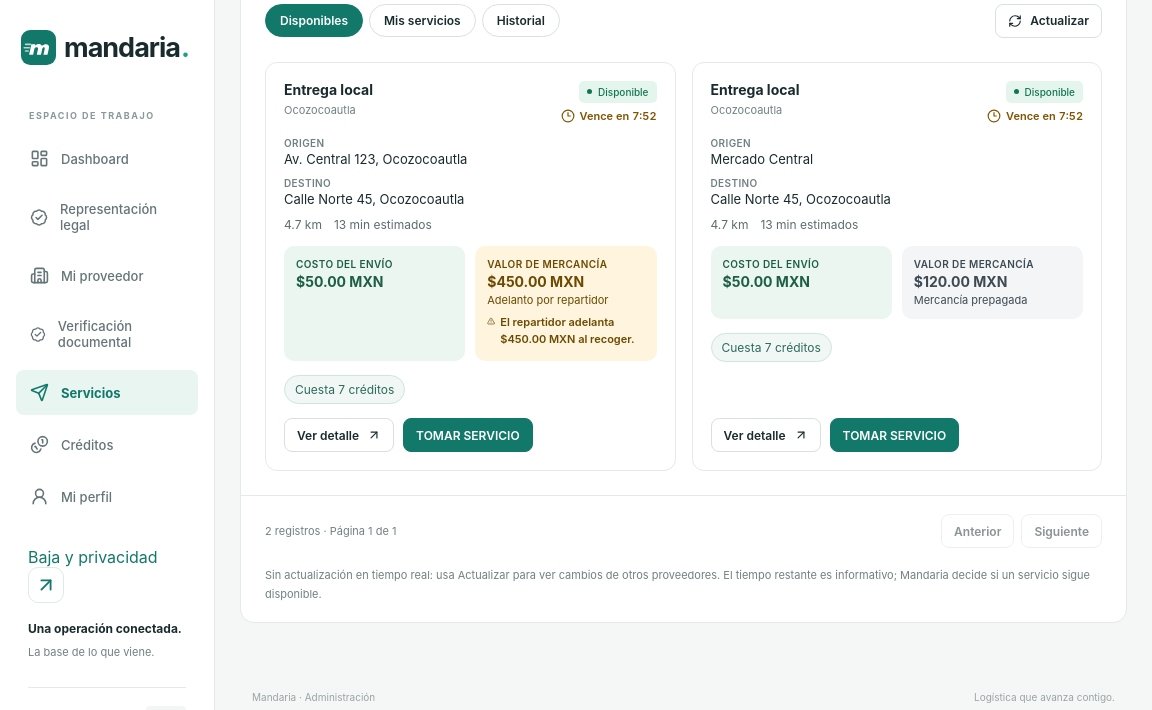
it: claim › ends the dialog for final outcome PROVIDER_NOT_ELIGIBLE
(page scrolled)
Expected: the text "Av. Central 123, Ocozocoautla" is shown, left=284, top=151, right=467, bottom=167
Click the button "TOMAR SERVICIO" below "Adelanto por repartidor": (468, 435) left=403, top=418, right=533, bottom=452
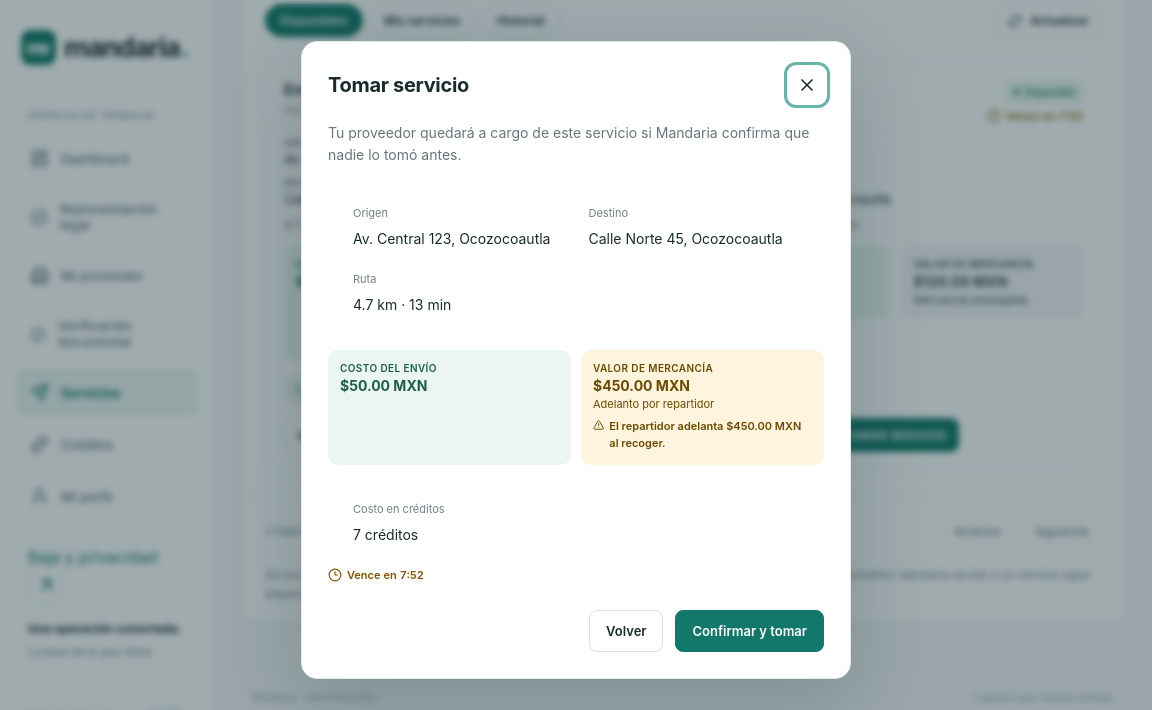
Click the button "Confirmar y tomar": (750, 631) left=676, top=610, right=824, bottom=652
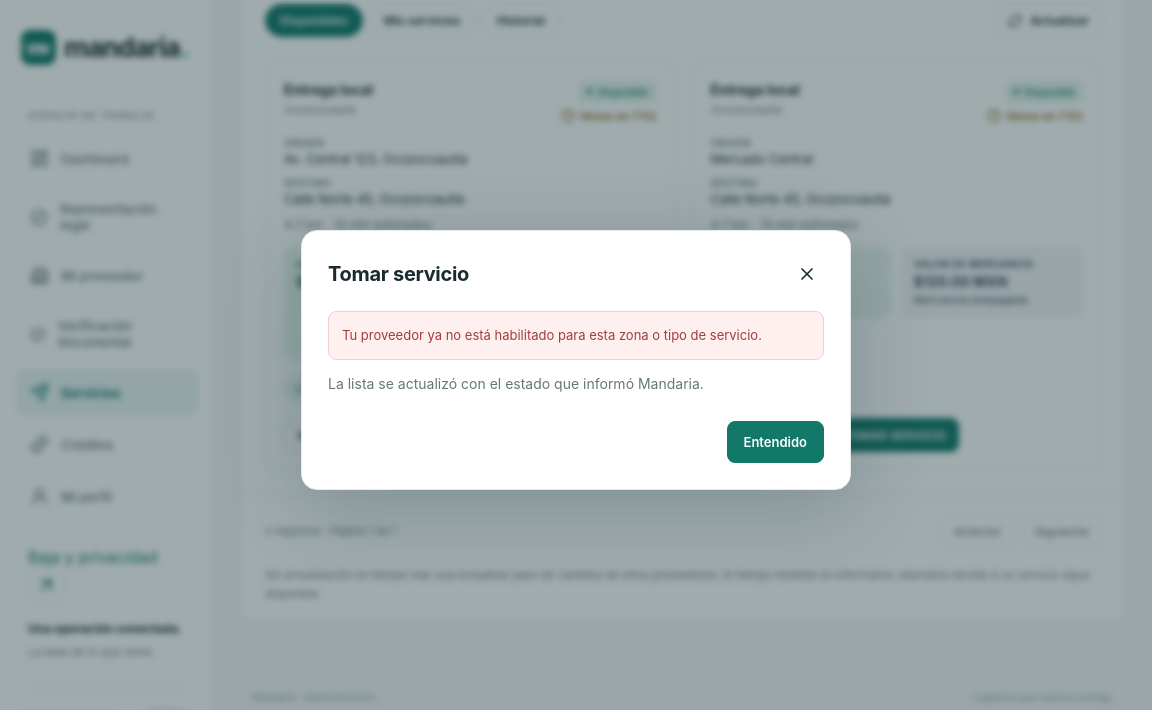
Result: the message shows "ya no está habilitado" at left=342, top=327, right=762, bottom=343
Result: the button "Confirmar y tomar" is gone
